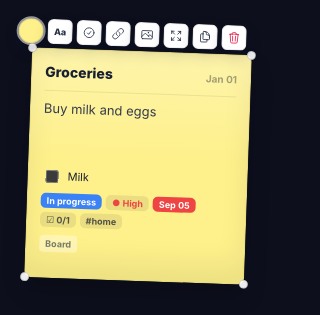
Test: PostItCard rendering › switches to an editable textarea when the content is clicked
Click the element showing "Buy milk and eggs" at x=100, y=109, box [44, 100, 157, 119]
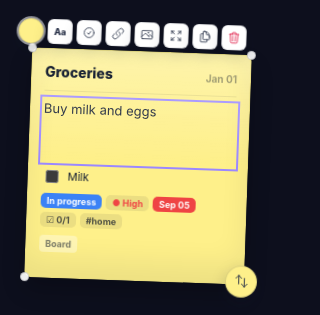
Now the text box named "Content" is shown, box [42, 98, 236, 167]
